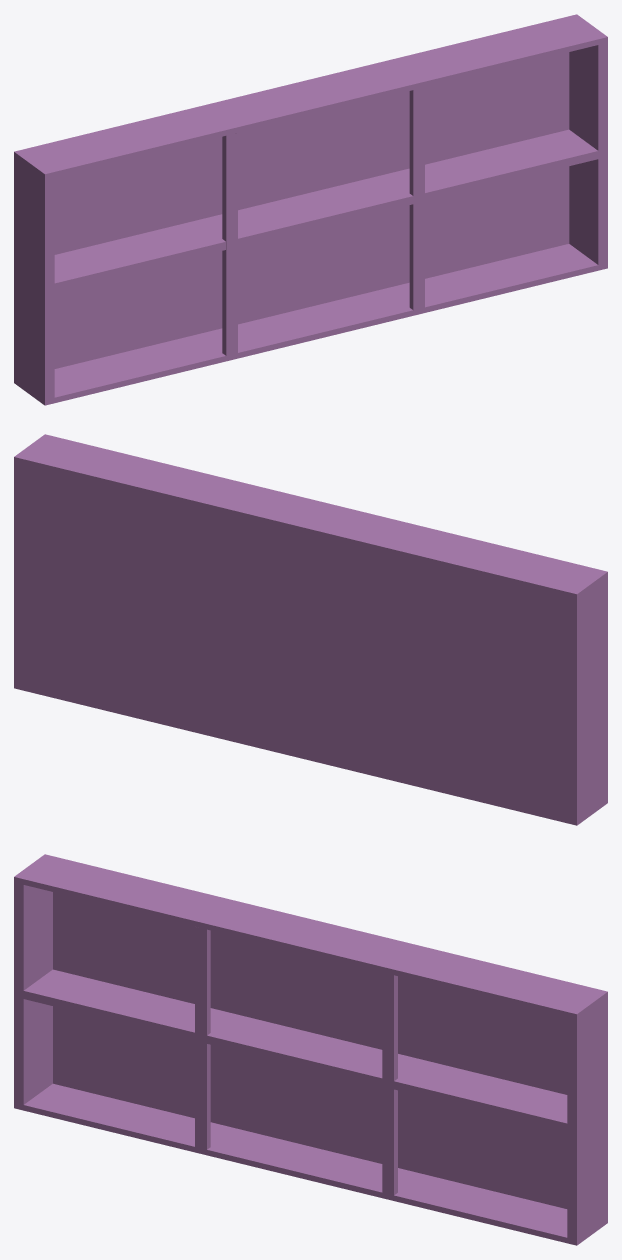
File: SalleDeBainGRDMeubleVitre.fbx
3 views of the same model, one above another, from view 1: azimuth 30°, elevation 25°; view 2: azimuth 150°, elevation 25°; view 3: azimuth 330°, elevation 25° (orthographic).
Parts seen in each view (by area): view 1: SalleDeBainGRDMeubleVitre; view 2: SalleDeBainGRDMeubleVitre; view 3: SalleDeBainGRDMeubleVitre.
Part boxes in pixels (x1,y1,x2,y2): SalleDeBainGRDMeubleVitre: [14, 14, 607, 405]; SalleDeBainGRDMeubleVitre: [14, 434, 607, 825]; SalleDeBainGRDMeubleVitre: [14, 854, 607, 1245].
Size of the model in its own units: 153 by 60 by 14.58.
